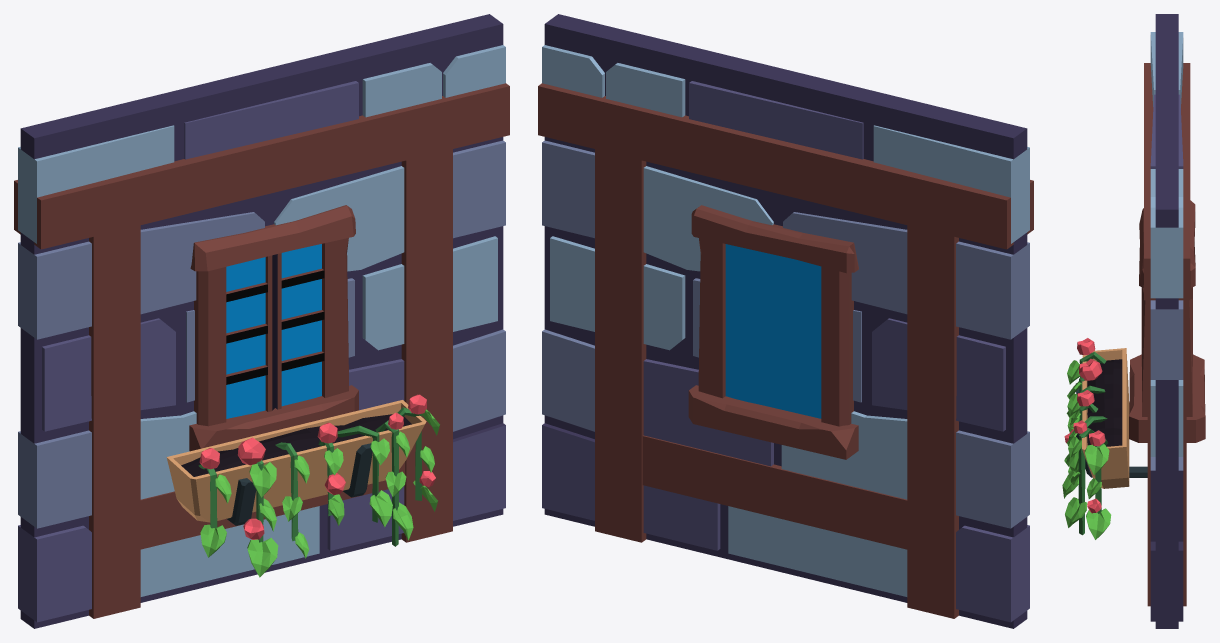
The model's file is Modular Wall 10 MK2 W4.fbx.
The picture shows the model from 3 angles, left to right: view 1: azimuth 30°, elevation 25°; view 2: azimuth 150°, elevation 25°; view 3: azimuth 270°, elevation 25°; orthographic projection. The views are drawn at different scales.
Visible parts, largest first — view 1: Modular Wall 10 MK2 W4; view 2: Modular Wall 10 MK2 W4; view 3: Modular Wall 10 MK2 W4.
Part boxes in pixels (x1,y1,x2,y2): Modular Wall 10 MK2 W4: (14,14,509,628); Modular Wall 10 MK2 W4: (538,14,1033,628); Modular Wall 10 MK2 W4: (1062,14,1205,628).
Size of the model in its own units: 400 by 400 by 124.
